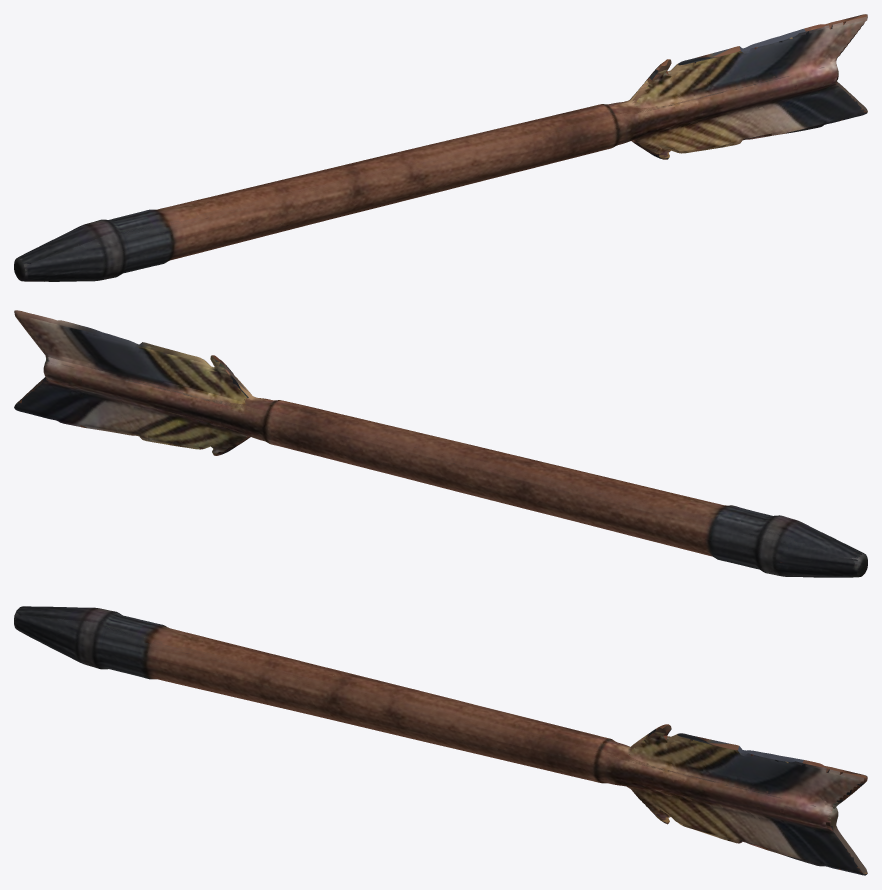
Rendered from catalog-field-arrow-0.glb.
3 renders of one model, top to bottom at view 1: azimuth 30°, elevation 25°; view 2: azimuth 150°, elevation 25°; view 3: azimuth 330°, elevation 25°, orthographic.
Visible parts, largest first — view 1: tmpq4ntssl0.ply; view 2: tmpq4ntssl0.ply; view 3: tmpq4ntssl0.ply.
Part boxes in pixels (x1,y1,x2,y2): tmpq4ntssl0.ply: [14, 14, 867, 281]; tmpq4ntssl0.ply: [14, 310, 867, 577]; tmpq4ntssl0.ply: [14, 606, 867, 875].
Size of the model in its own units: 1.96 by 0.2312 by 0.1225.
1 material, 1 textured.
